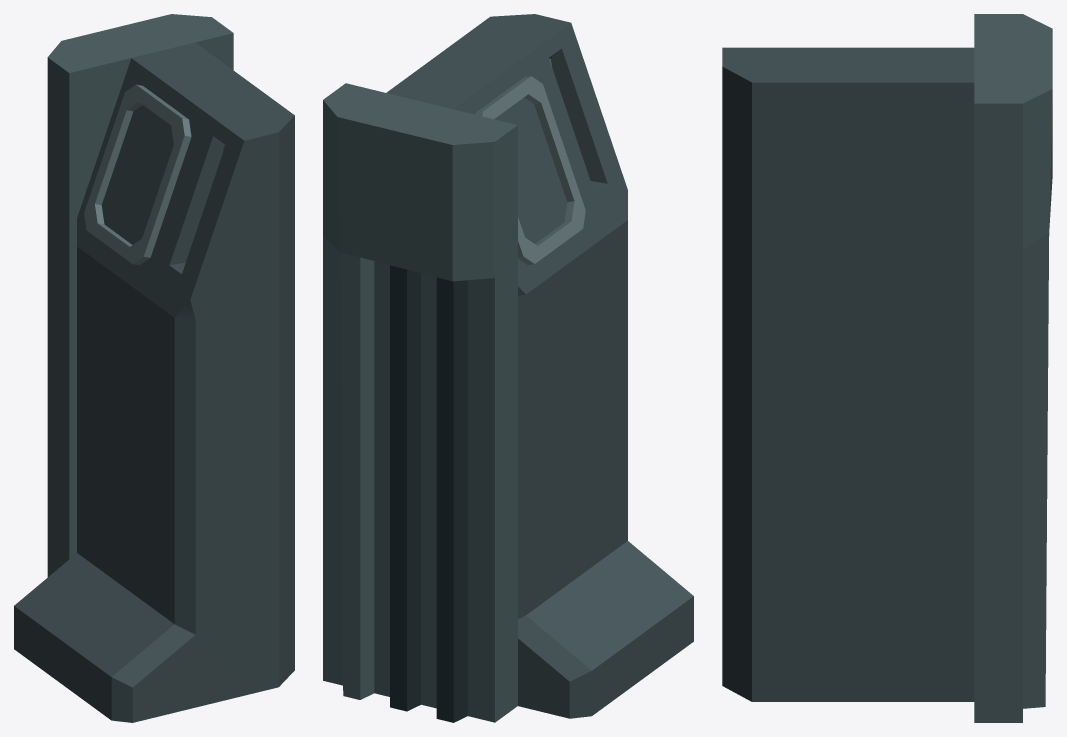
The model's file is SM_Switch_Clone.fbx.
3 views of the same model, side by side, from view 1: azimuth 30°, elevation 25°; view 2: azimuth 150°, elevation 25°; view 3: azimuth 270°, elevation 25° (orthographic). The views are drawn at different scales.
Visible parts, largest first — view 1: SM_Switch_Clone; view 2: SM_Switch_Clone; view 3: SM_Switch_Clone.
Boxes of the visible parts, x1,y1,x2,y2 form: SM_Switch_Clone: (14, 14, 294, 722); SM_Switch_Clone: (323, 14, 693, 722); SM_Switch_Clone: (722, 14, 1052, 722).
Size of the model in its own units: 63.99 by 149 by 72.18.
Materials: 1 (1 with a texture image).
